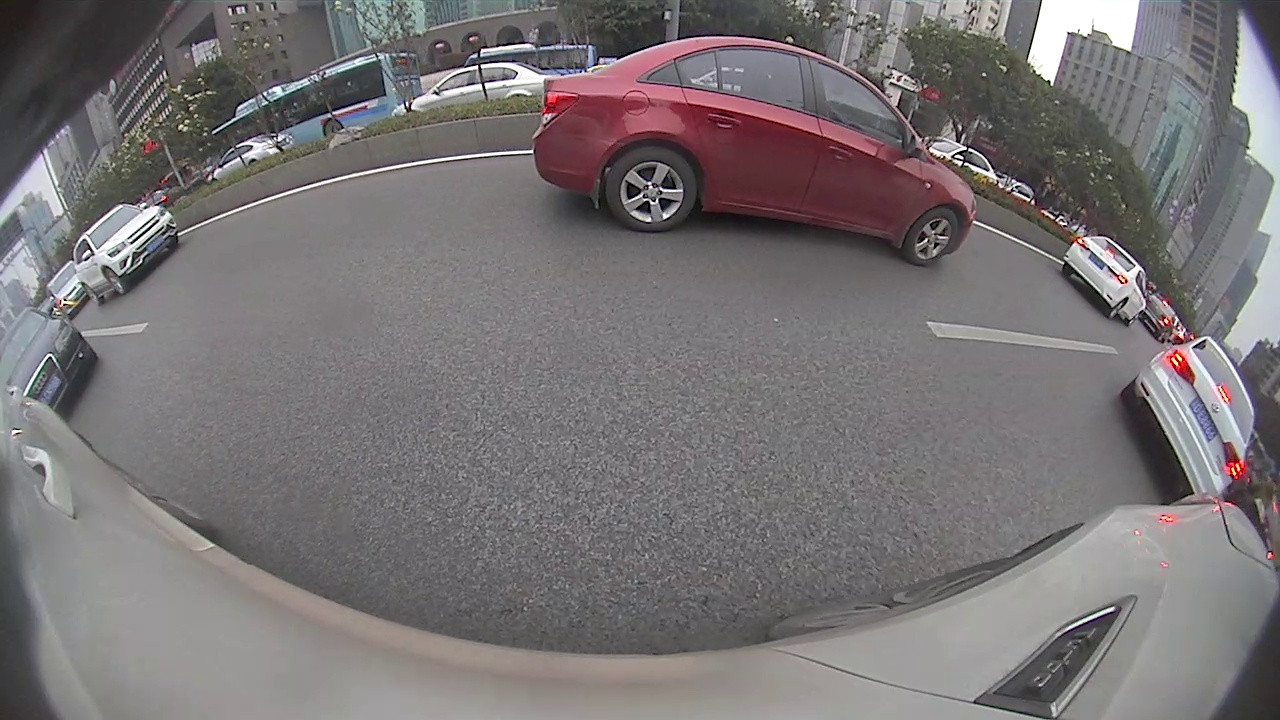car: (531, 34, 978, 267), (1118, 334, 1258, 498), (1, 301, 99, 418), (71, 202, 179, 300), (1060, 233, 1154, 327)
front: (905, 212, 961, 265), (102, 267, 127, 297)
rear: (607, 147, 698, 234), (322, 121, 344, 142), (1108, 298, 1128, 319)
